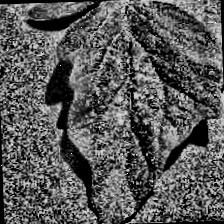spider mites: (27, 0, 224, 224)
